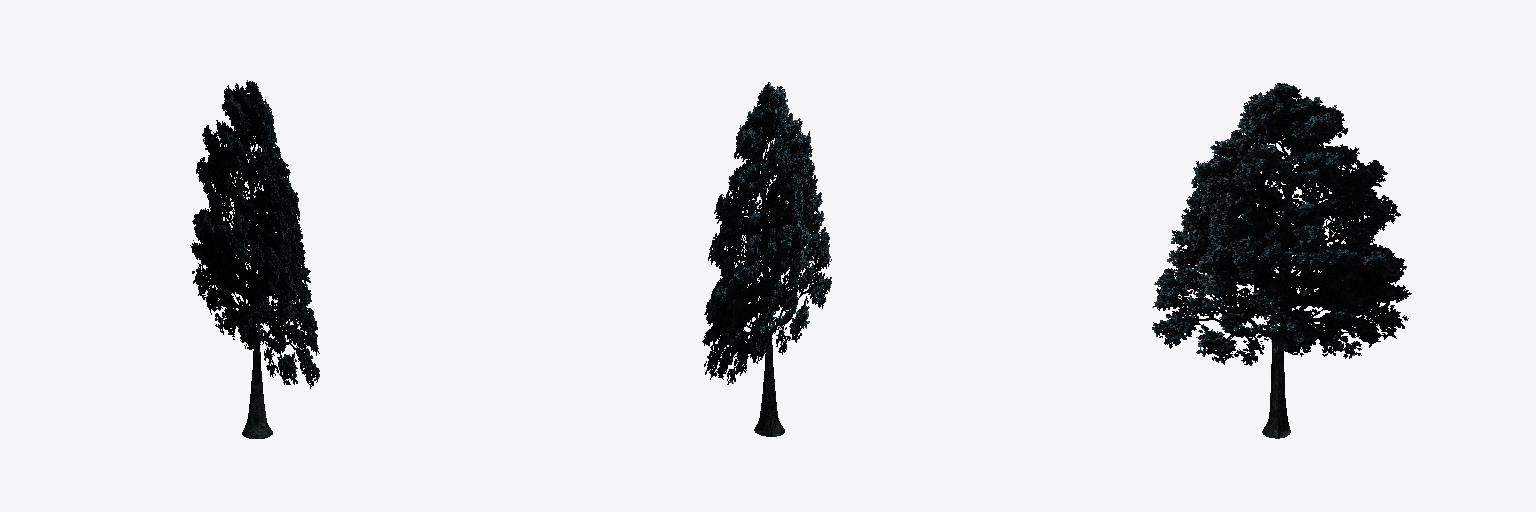
3 renders of one model, left to right at view 1: azimuth 30°, elevation 25°; view 2: azimuth 150°, elevation 25°; view 3: azimuth 270°, elevation 25°, orthographic.
Parts seen in each view (by area): view 1: treenew:pCylinder2_treenew:pCylinder2_lambert2SG; view 2: treenew:pCylinder2_treenew:pCylinder2_lambert2SG; view 3: treenew:pCylinder2_treenew:pCylinder2_lambert2SG.
Boxes of the visible parts, x1,y1,x2,y2 form: treenew:pCylinder2_treenew:pCylinder2_lambert2SG: [190, 80, 319, 438]; treenew:pCylinder2_treenew:pCylinder2_lambert2SG: [702, 82, 831, 436]; treenew:pCylinder2_treenew:pCylinder2_lambert2SG: [1152, 83, 1411, 438].
Bounding box in the file's own units: 2.32 × 27.91 × 19.19.
1 materials, 1 textured.